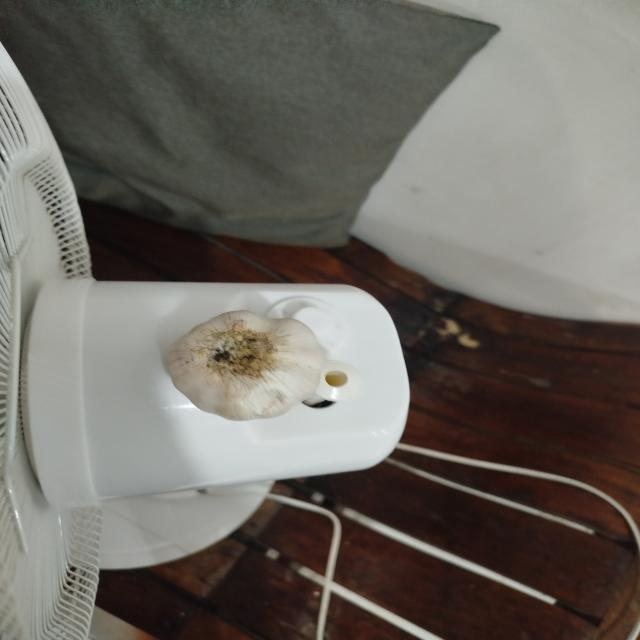garlic: (166, 309, 327, 422)
